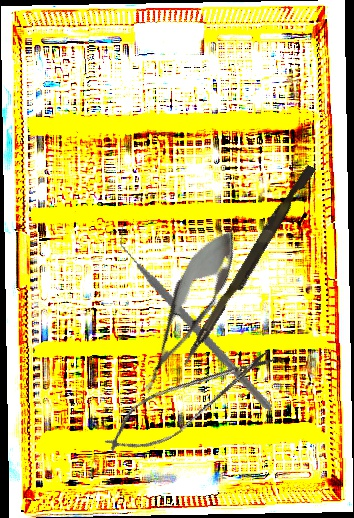Chopper: (84, 226, 309, 410)
Micro Scissor: (93, 331, 286, 470), (124, 214, 252, 406)
Pusher: (181, 161, 316, 371)
